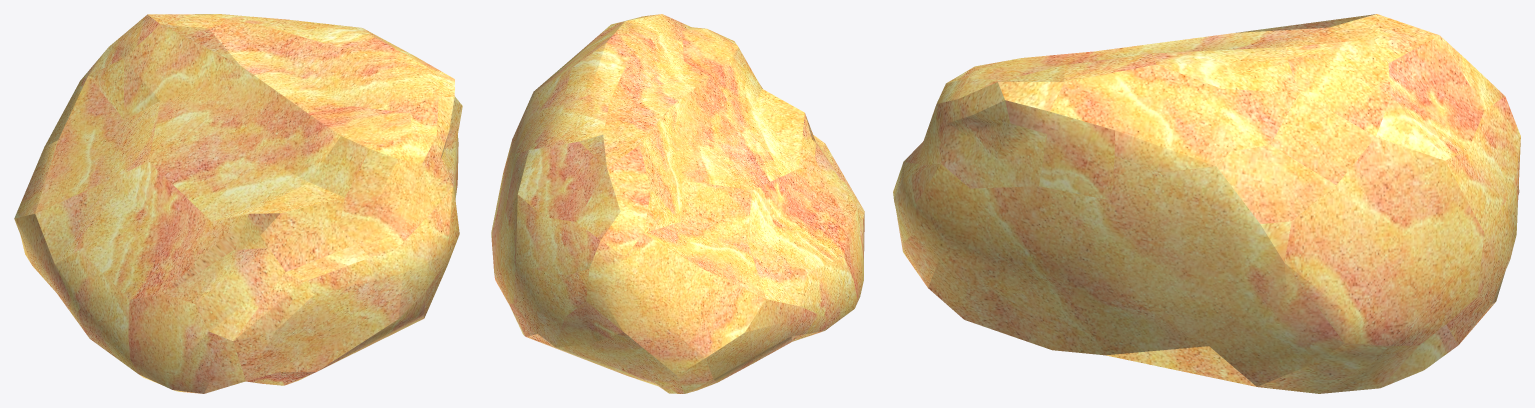
File: boulder-sm-7.glb
The picture shows the model from 3 angles, left to right: view 1: azimuth 30°, elevation 25°; view 2: azimuth 150°, elevation 25°; view 3: azimuth 270°, elevation 25°; orthographic projection. The views are drawn at different scales.
Parts seen in each view (by area): view 1: Icosahedron_n3d; view 2: Icosahedron_n3d; view 3: Icosahedron_n3d.
Boxes of the visible parts, x1=… form: Icosahedron_n3d: x1=14, y1=14, x2=462, y2=393; Icosahedron_n3d: x1=491, y1=14, x2=864, y2=393; Icosahedron_n3d: x1=893, y1=14, x2=1520, y2=393.
Bounding box in the file's own units: 0.4938 × 0.4128 × 0.6346.
Materials: 1 (1 with a texture image).
